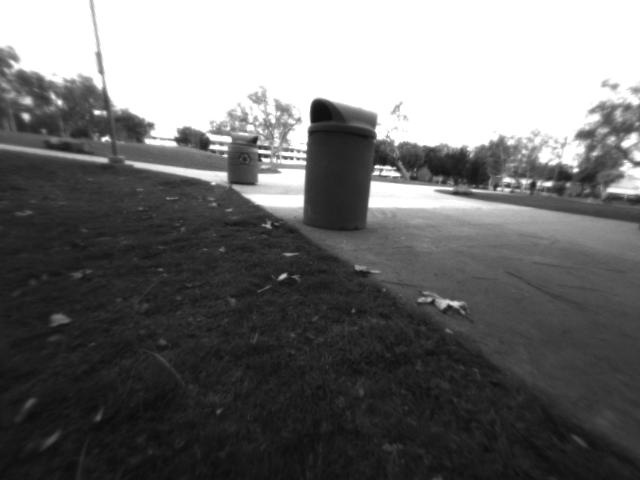trashcan: (303, 96, 376, 235)
